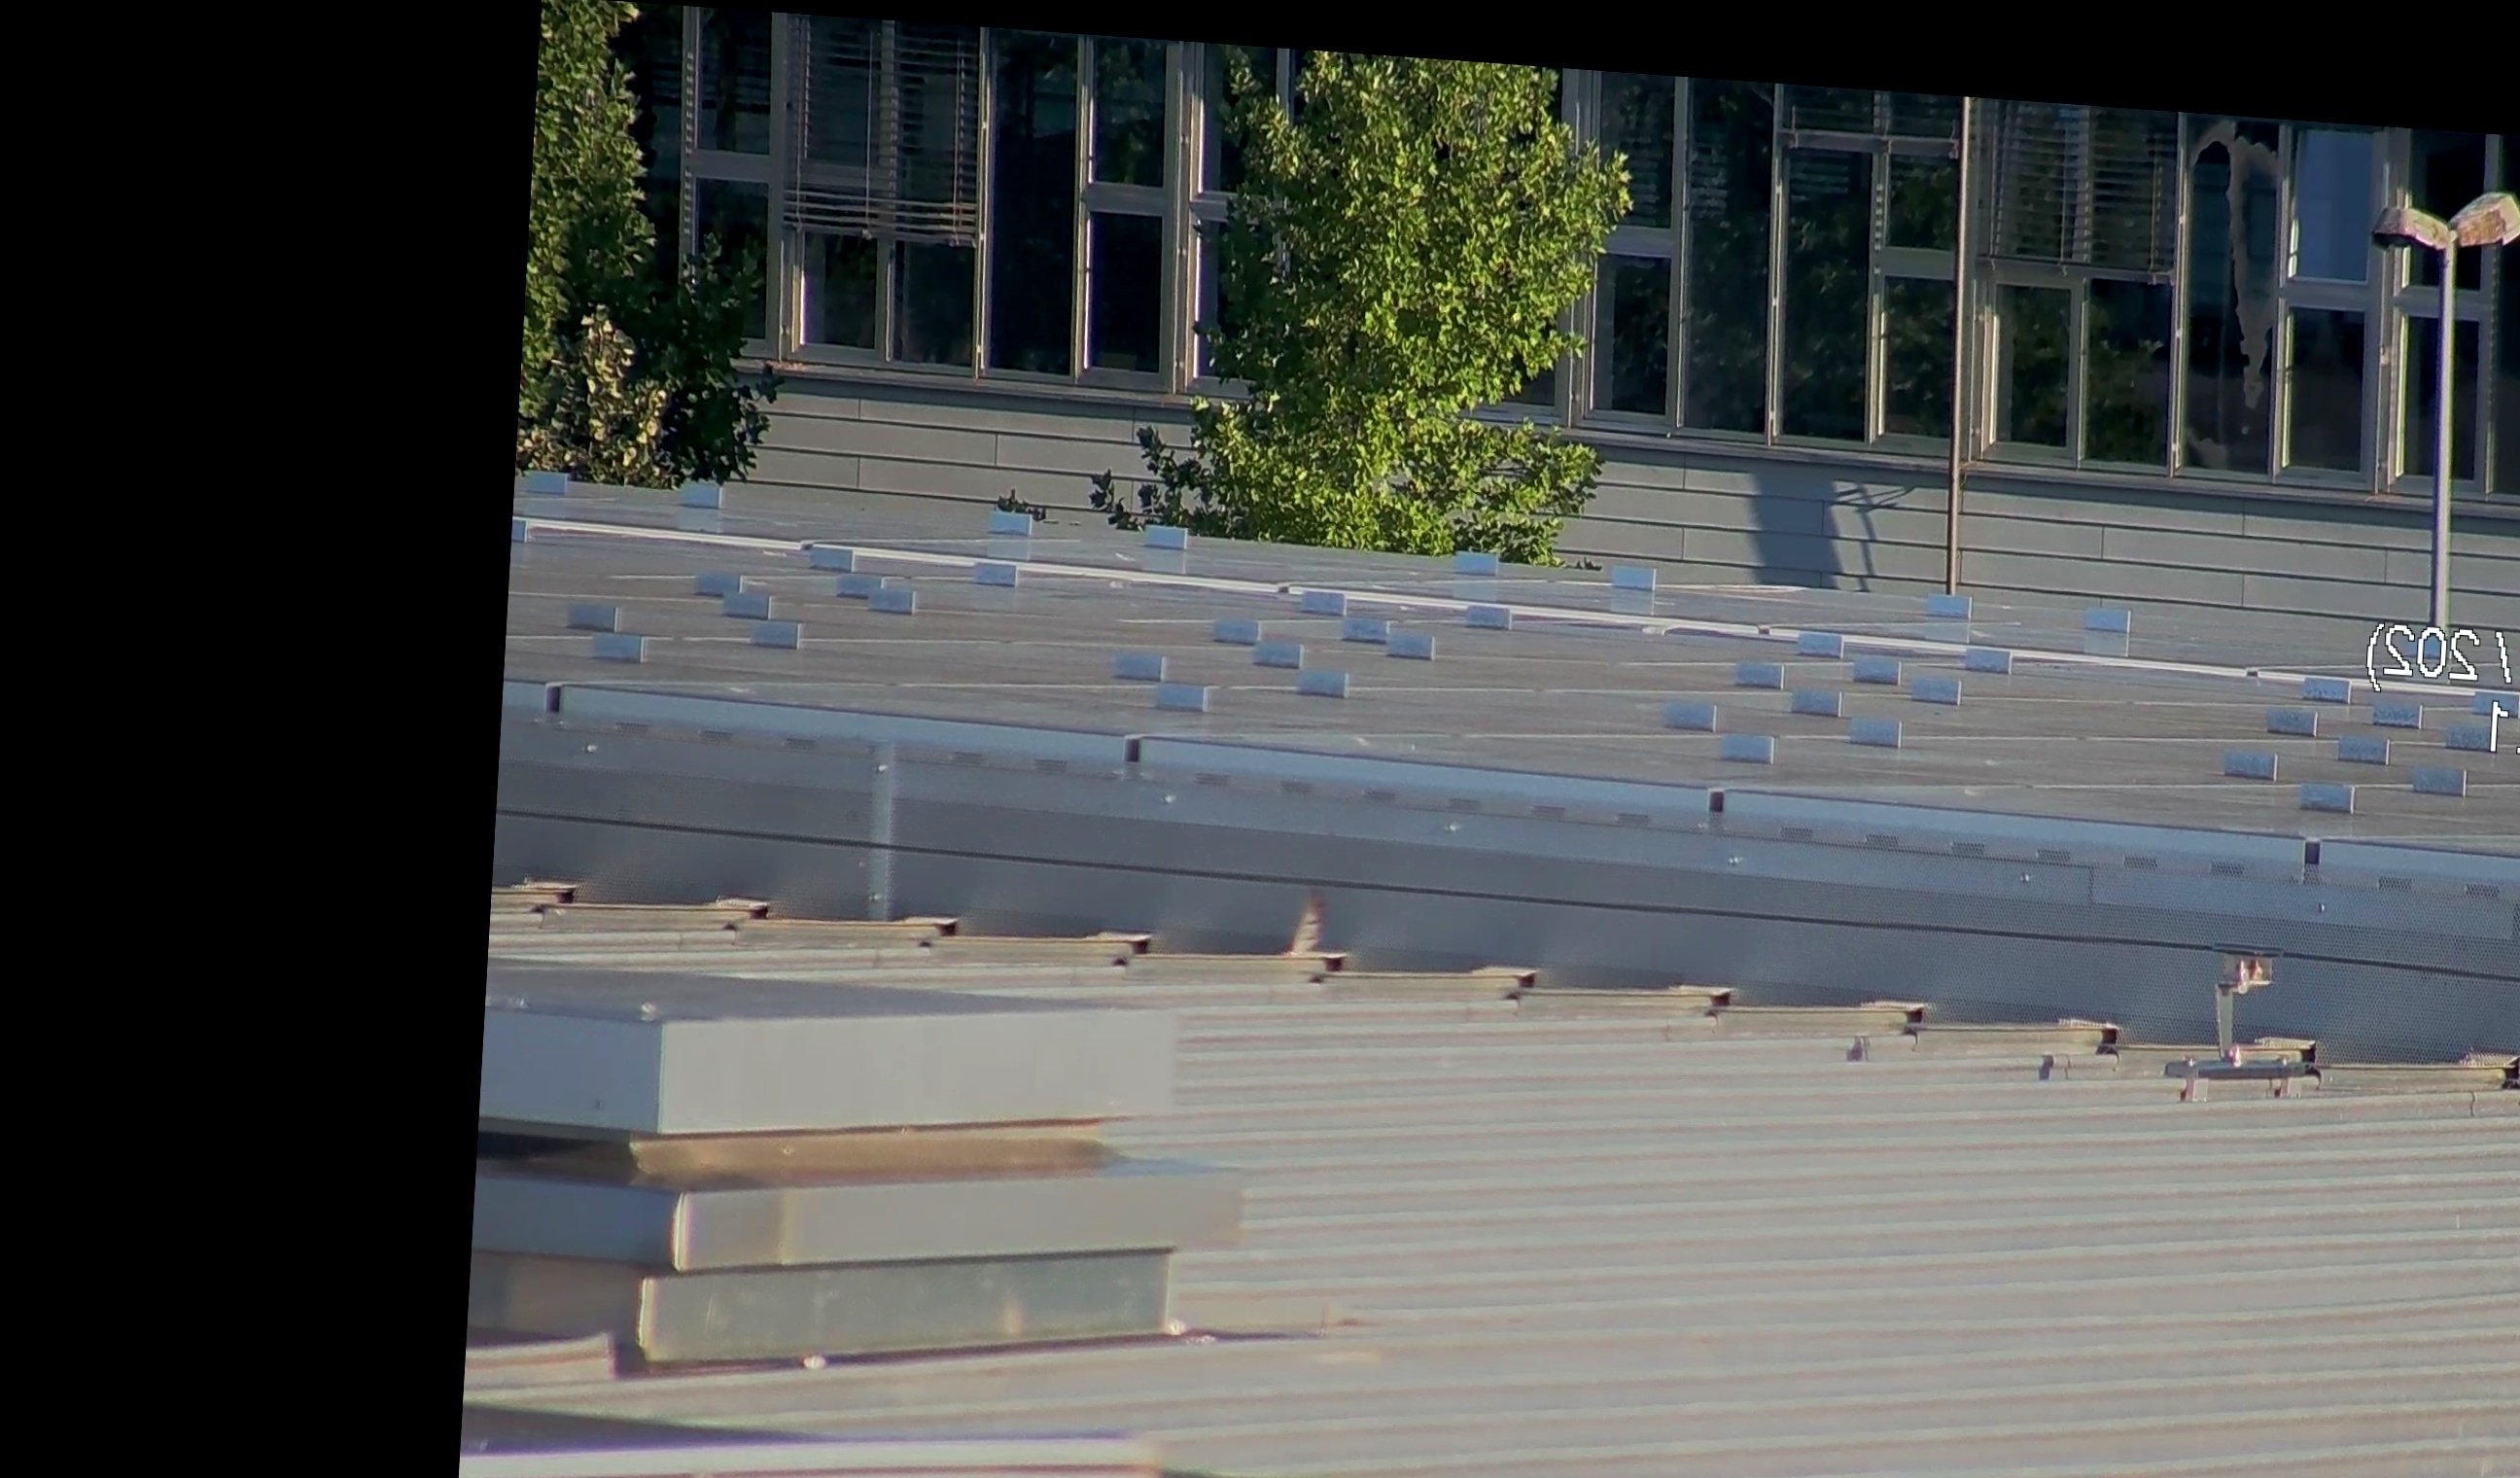Other: (1266, 874, 1347, 992)
